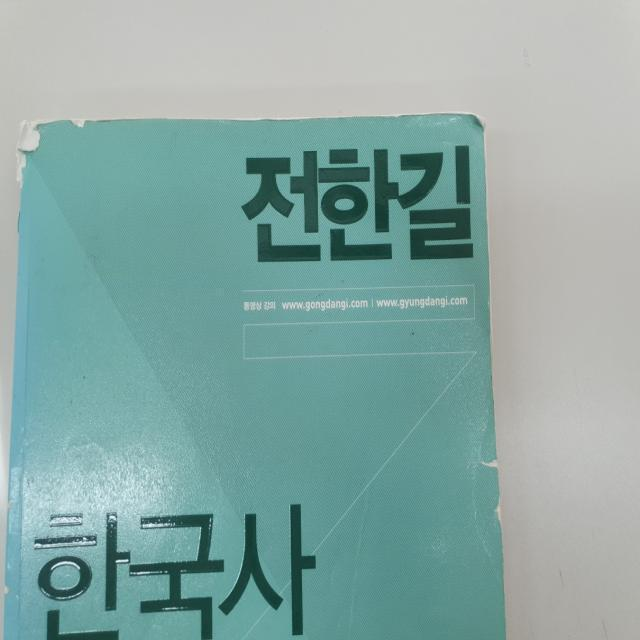Ripped: (11, 108, 65, 238), (470, 448, 508, 488), (66, 111, 123, 132), (483, 490, 508, 532)
Wornout: (340, 488, 380, 639), (164, 106, 360, 134), (374, 108, 496, 138), (0, 575, 20, 603)
